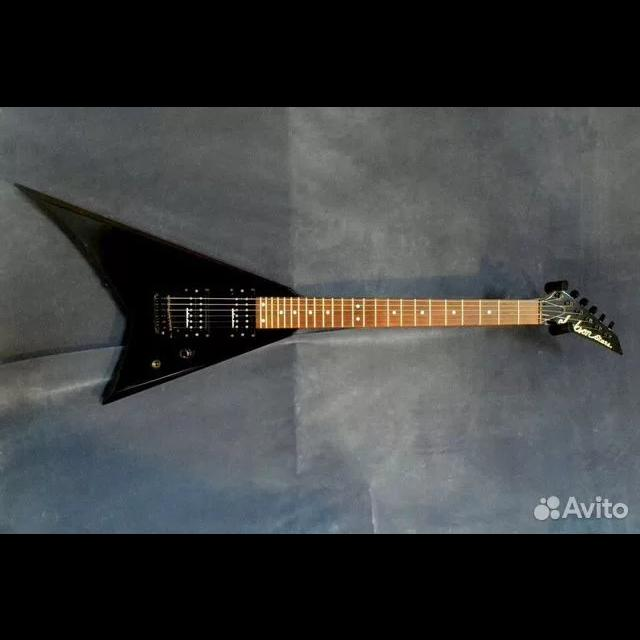Electric-Guitar: (14, 182, 624, 404)
